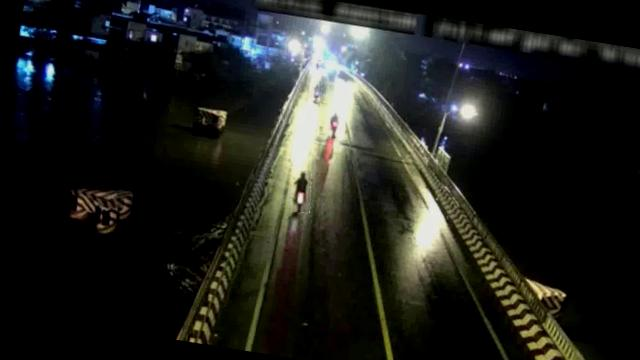Bike: (288, 168, 314, 214), (326, 108, 344, 140), (312, 80, 324, 101)
